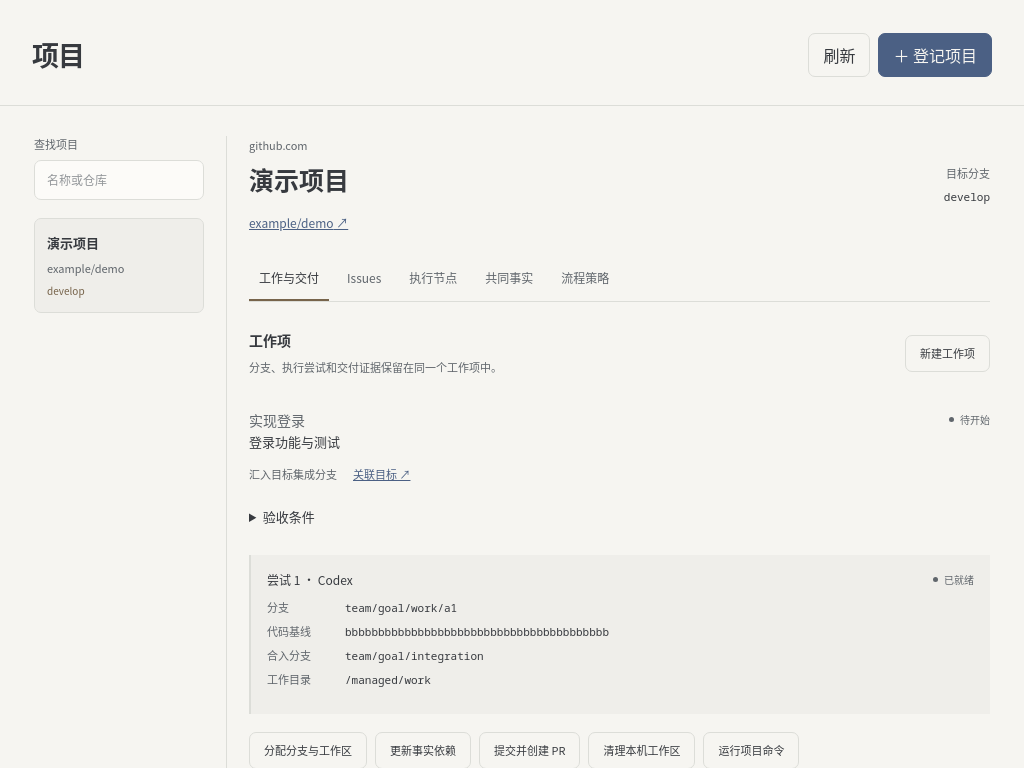
Test: GitHub 项目管理 › 更新最新事实使用乐观版本，冲突时保留输入
Expected: the heading "演示项目" is shown, [249, 161, 349, 197]
Click the button "共同事实" at (509, 279), box [475, 257, 543, 301]
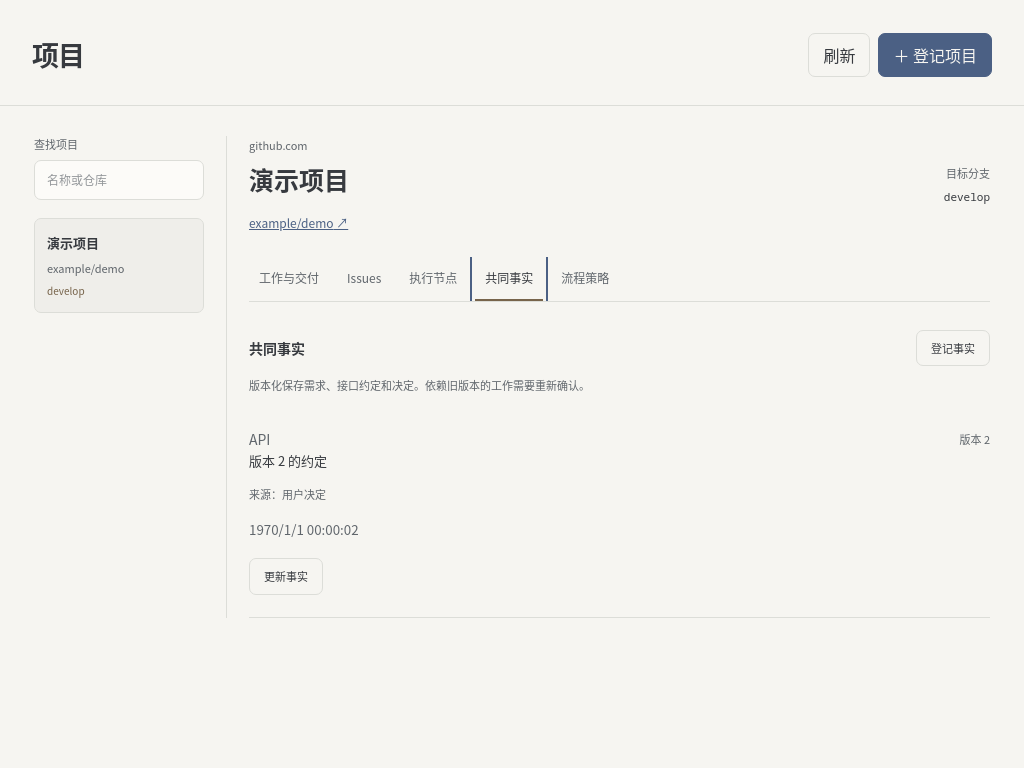
Click the button "更新事实" at (286, 577), box [249, 558, 323, 595]
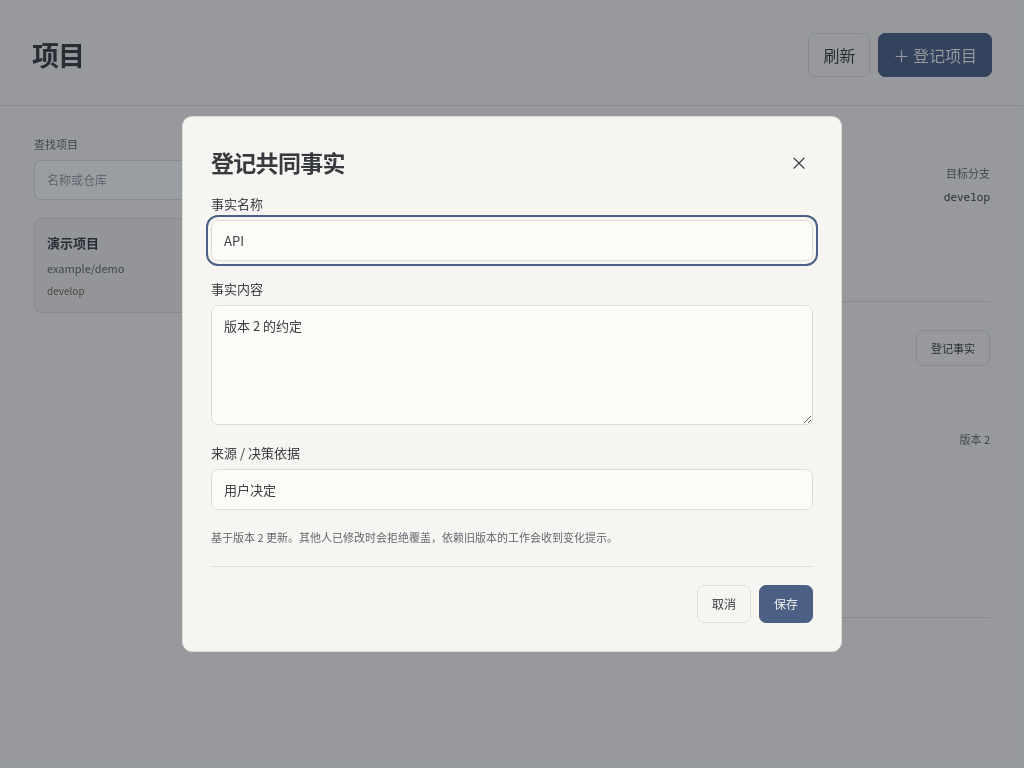
Replace the text in the text box labelled "事实内容" with "新约定" at (512, 365), box [211, 305, 813, 425]
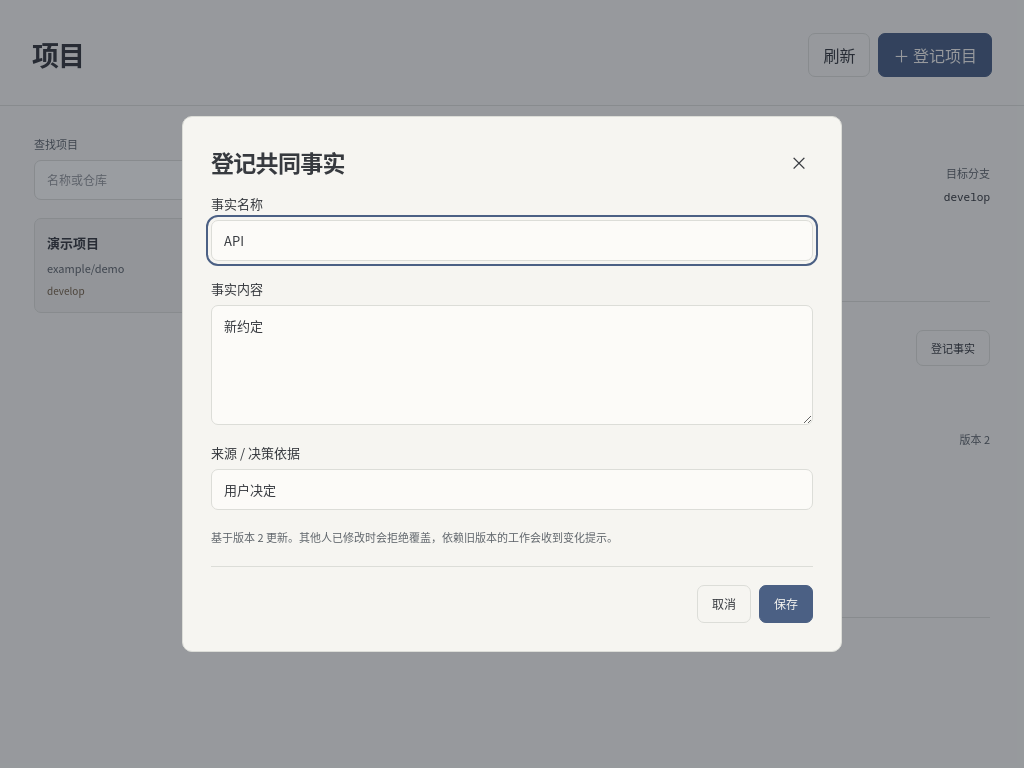
Click the button "保存" at (786, 604), box [759, 585, 813, 623]
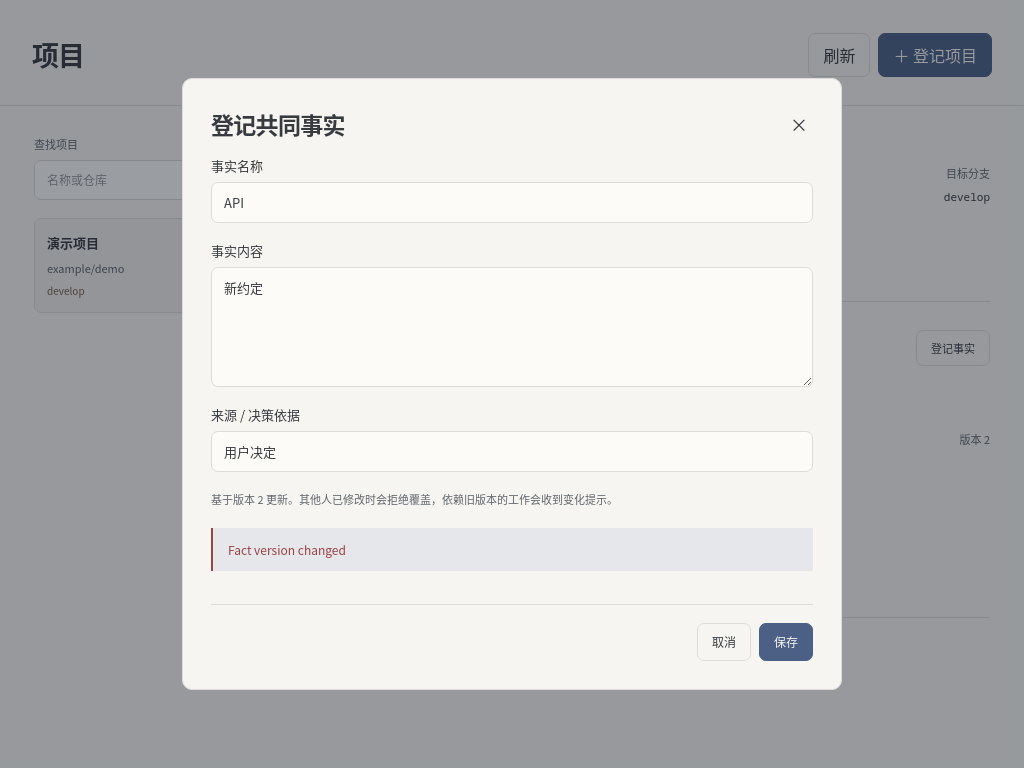
Now the message reads "Fact version changed", box [228, 541, 346, 558]
